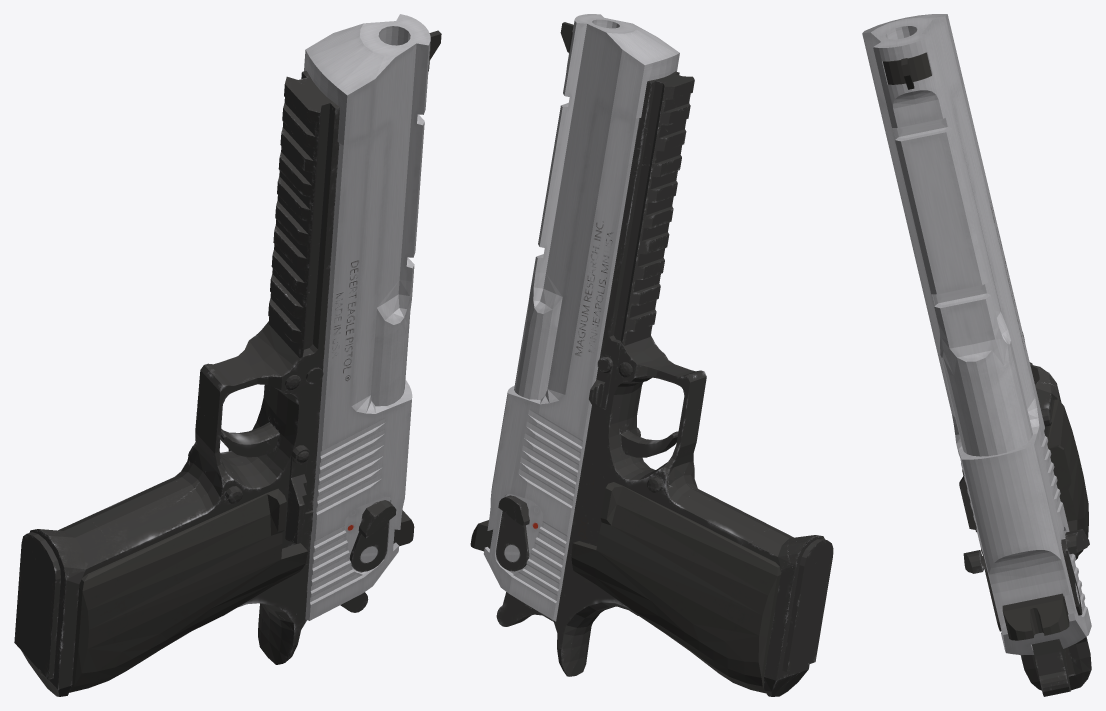
File: deagle.gltf
3 views of the same model, side by side, from view 1: azimuth 30°, elevation 25°; view 2: azimuth 150°, elevation 25°; view 3: azimuth 270°, elevation 25° (orthographic). The views are drawn at different scales.
Parts seen in each view (by area): view 1: Desert Eagle; view 2: Desert Eagle; view 3: Desert Eagle.
Boxes of the visible parts, x1,y1,x2,y2 form: Desert Eagle: [14, 14, 441, 696]; Desert Eagle: [470, 14, 833, 696]; Desert Eagle: [862, 14, 1091, 696].
Bounding box in the file's own units: 0.1554 × 0.2668 × 0.0806.
1 material, 1 textured.
